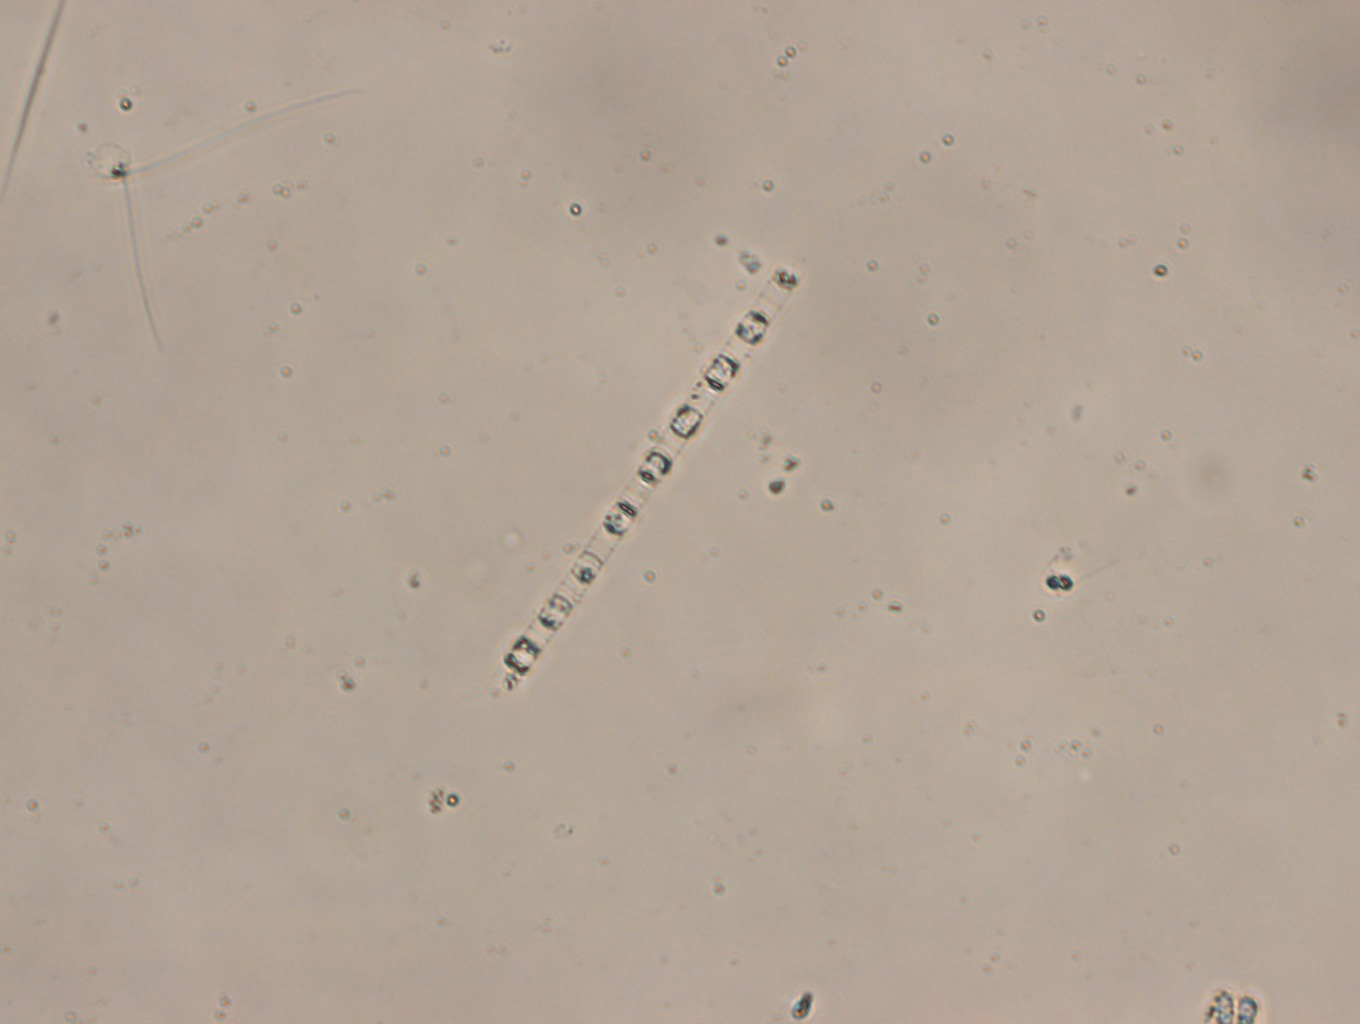coscinodiscus: (497, 265, 802, 683)
